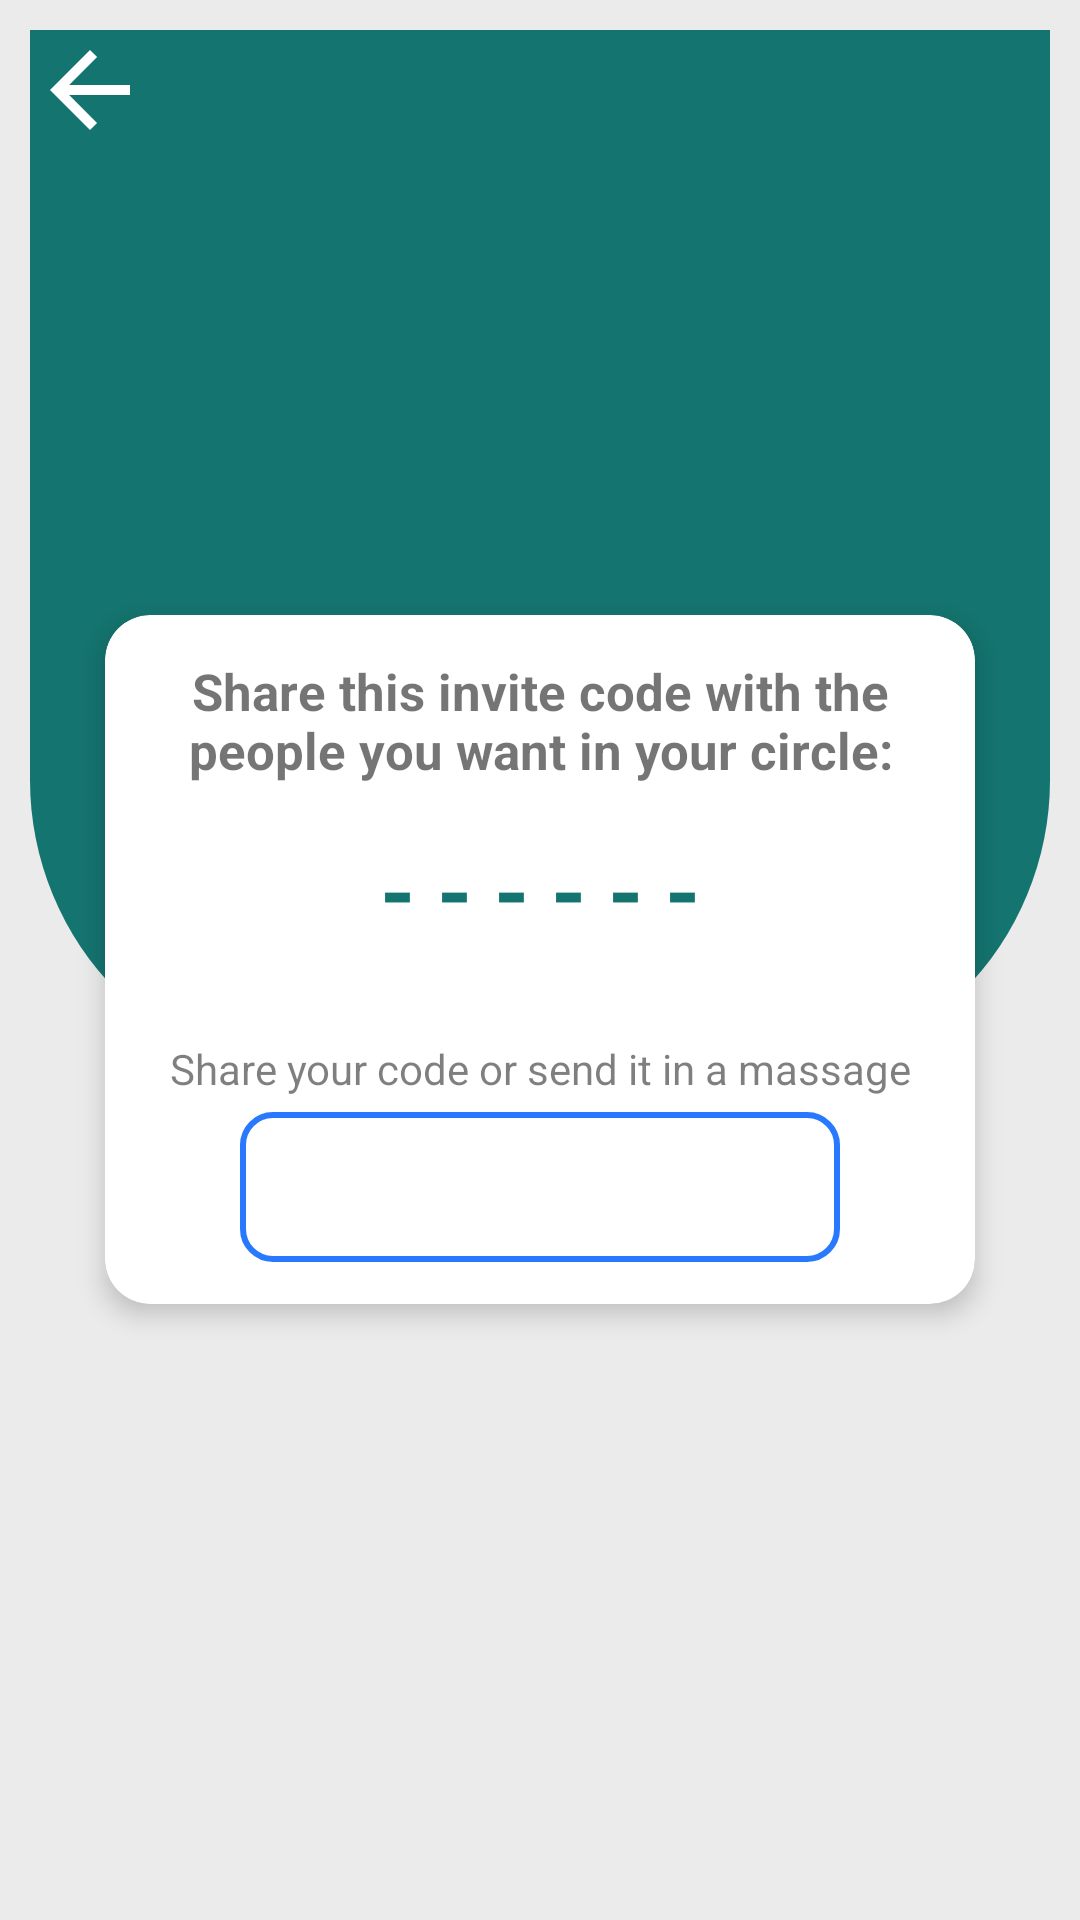

Named icons in this screenshot (1080 x 1920) and their centers, [x,y]:
arrow back: [90,90]
